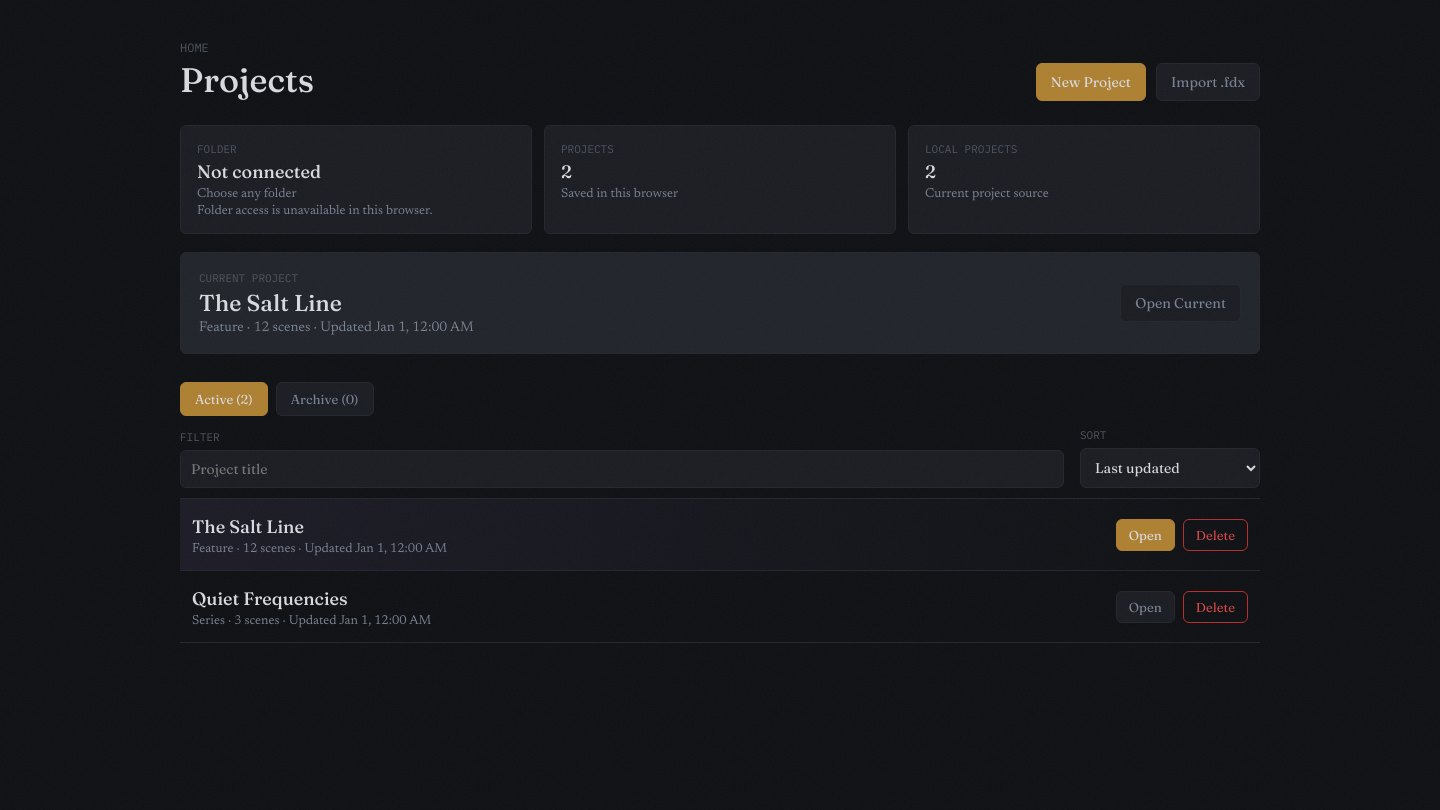
Test: HomeSurface › project Delete (Slice 5a) › opens a confirm dialog showing the exact project title and cascade copy
Click the button with aria-label "Delete Quiet Frequencies". click: (1215, 606)
box: [1183,590,1248,622]
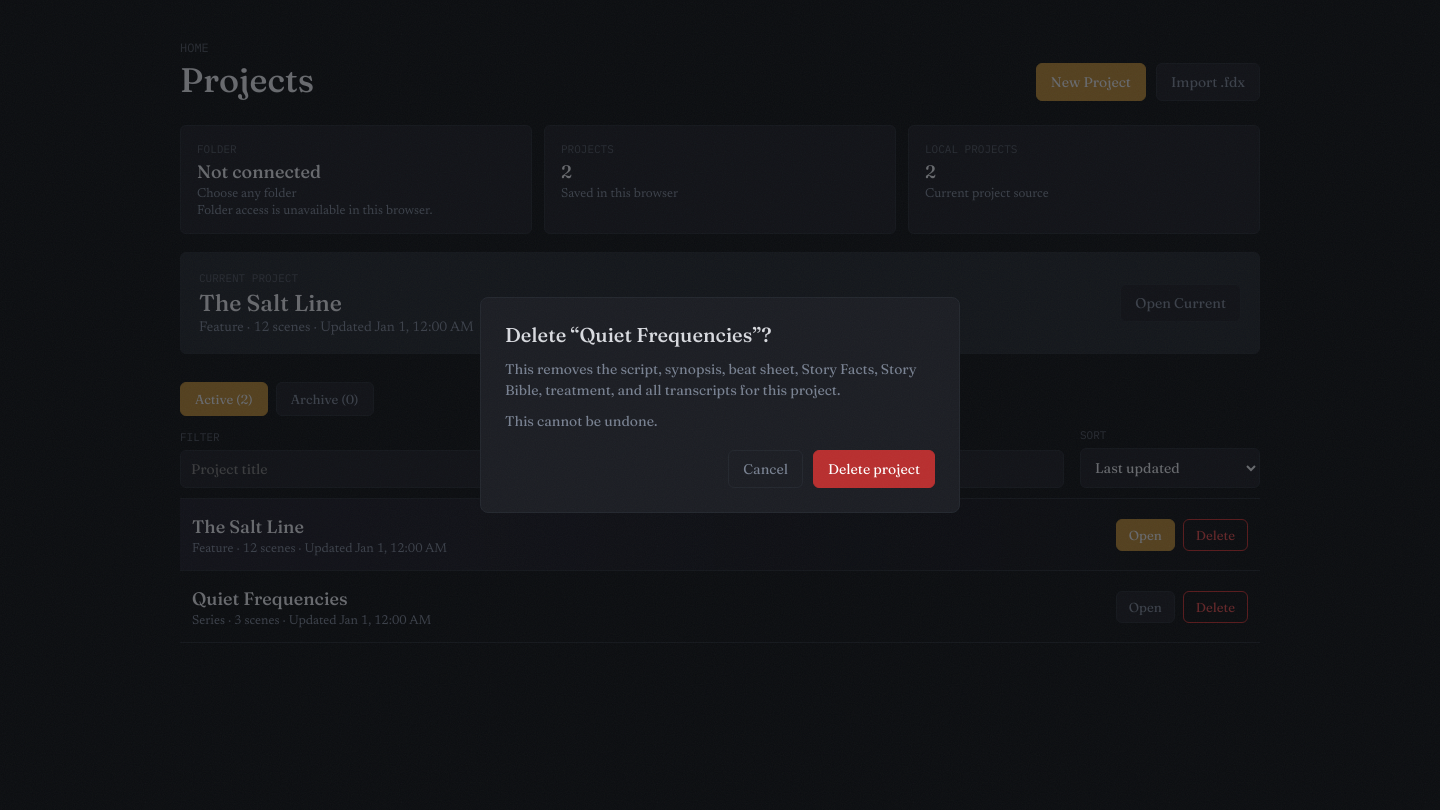
Result: the heading "Delete “Quiet Frequencies”?" is shown at [505,322,772,347]
Result: the text "script, synopsis, beat sheet, Story Facts, Story Bible, treatment, and all transcripts" is shown at [505,360,916,399]
